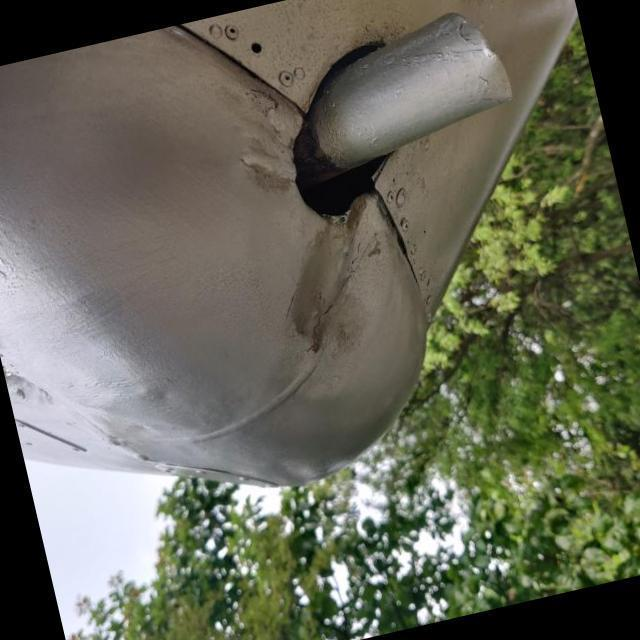Dent: (210, 204, 416, 387), (216, 110, 312, 205)
